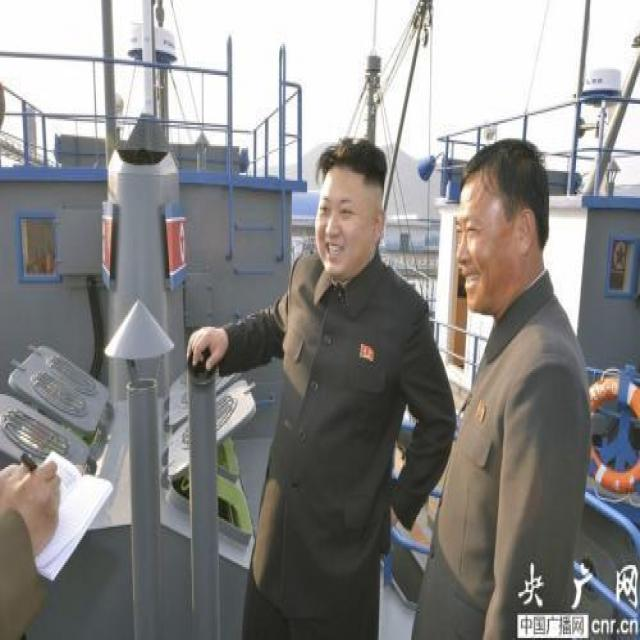no hat: (456, 129, 556, 313), (314, 137, 394, 280)
